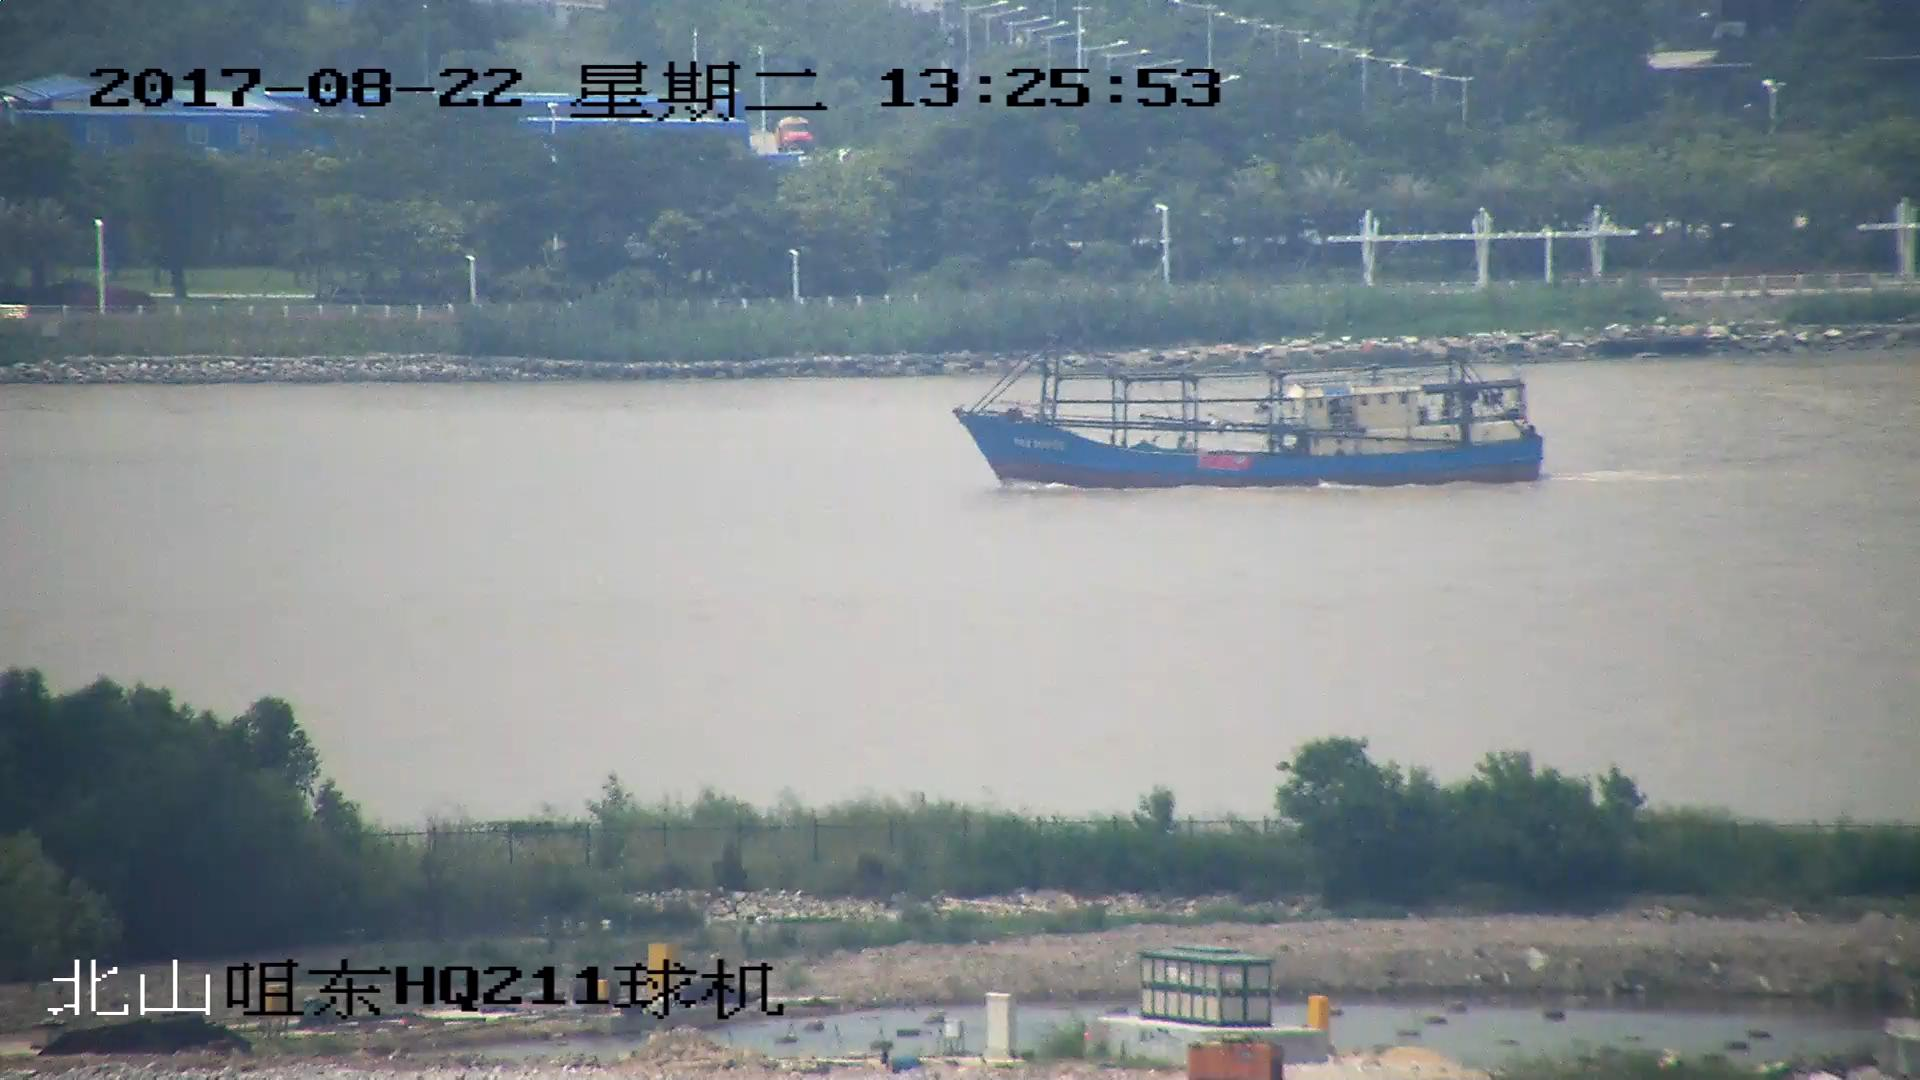fishing boat: (956, 338, 1540, 491)
